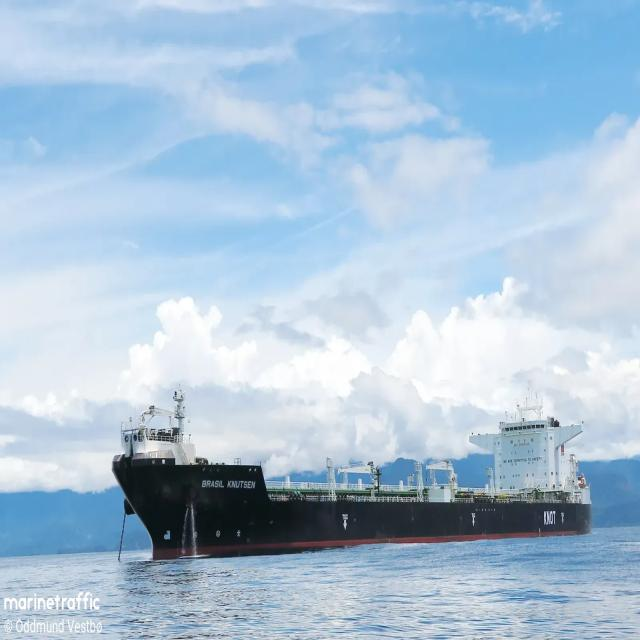Tanker: (112, 386, 591, 559)
